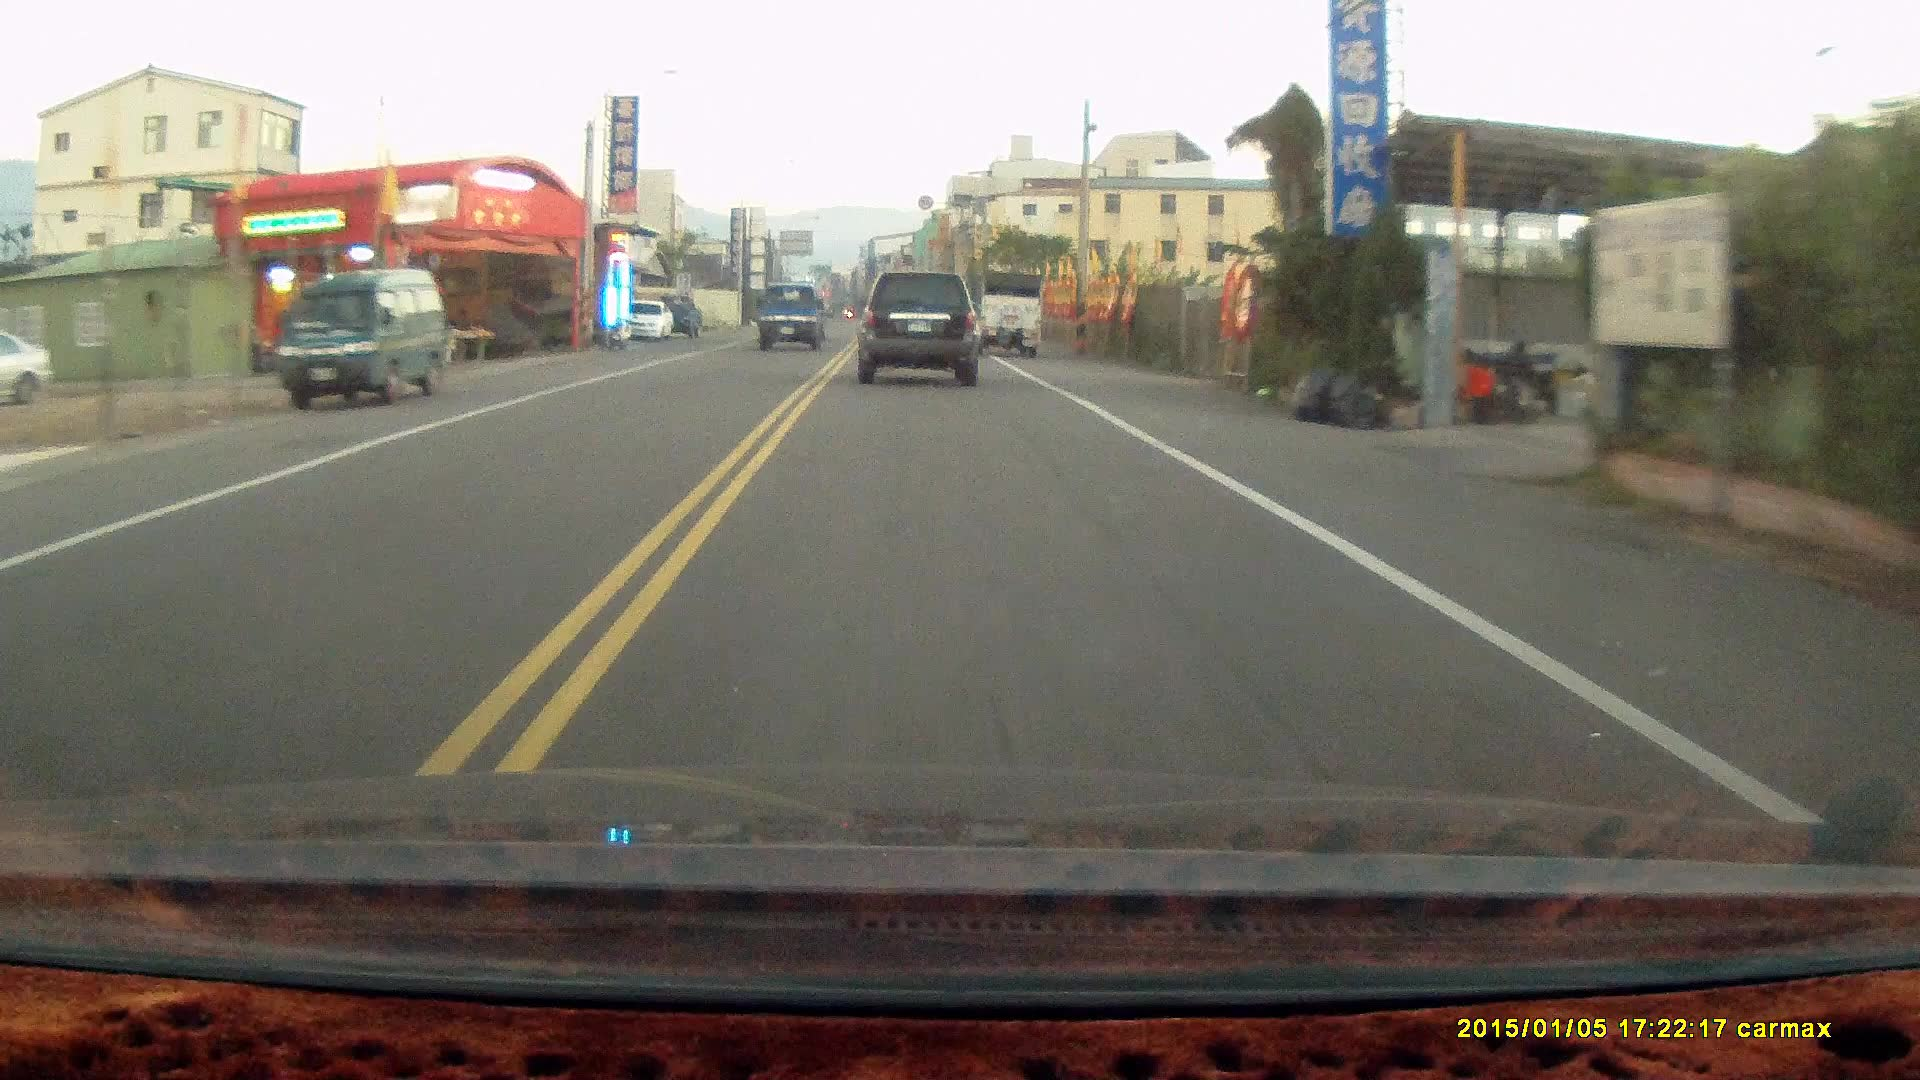vehicle: (276, 265, 454, 409), (860, 268, 982, 382), (953, 268, 1046, 357), (760, 284, 829, 355), (1, 316, 50, 407), (615, 299, 676, 342)
